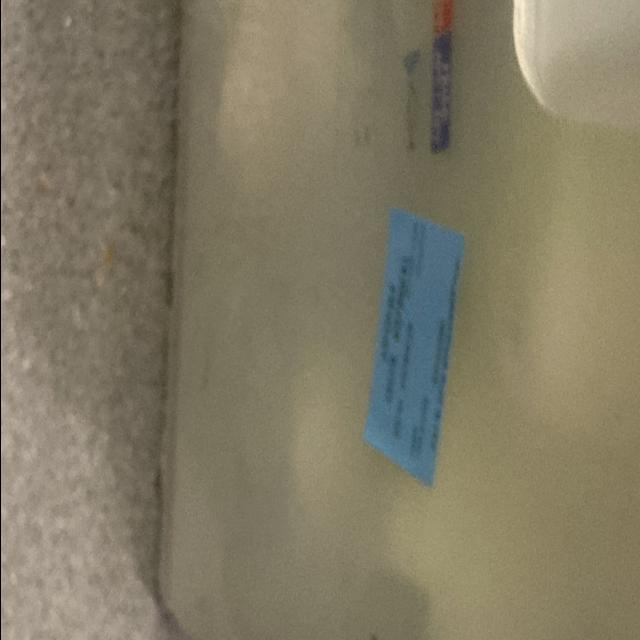product-labels: (356, 209, 467, 490)
